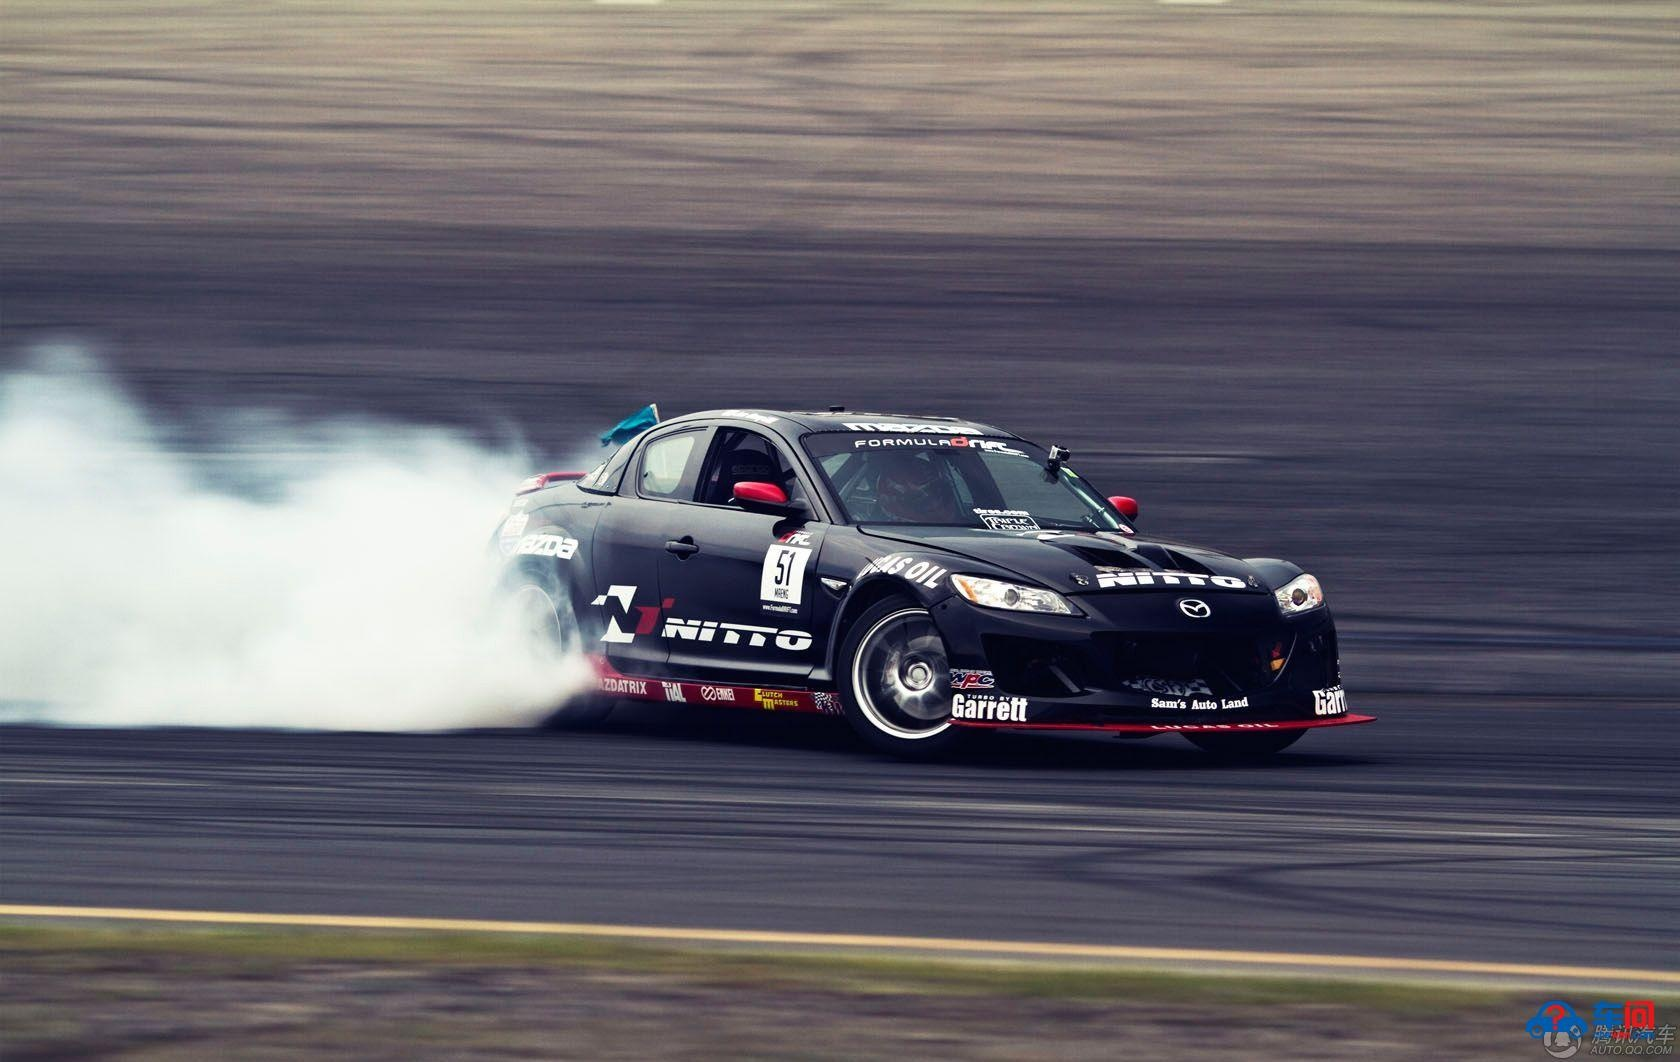racing car: (480, 365, 1359, 826)
